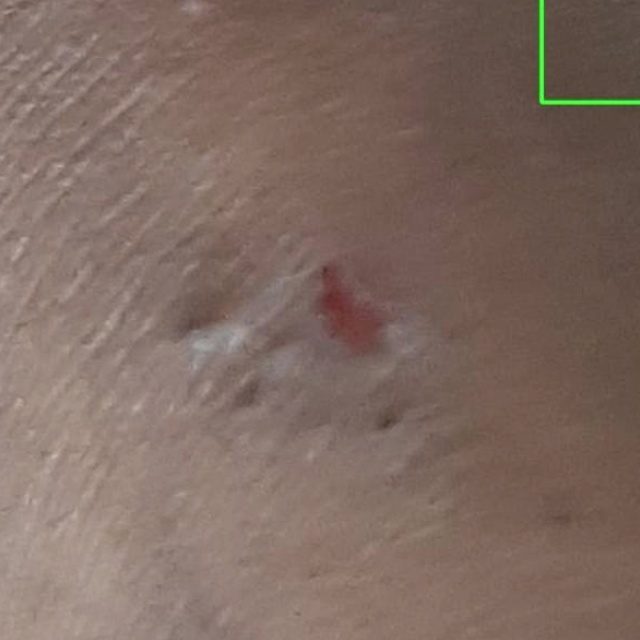Atopic Dermatitis: (541, 0, 639, 102)
